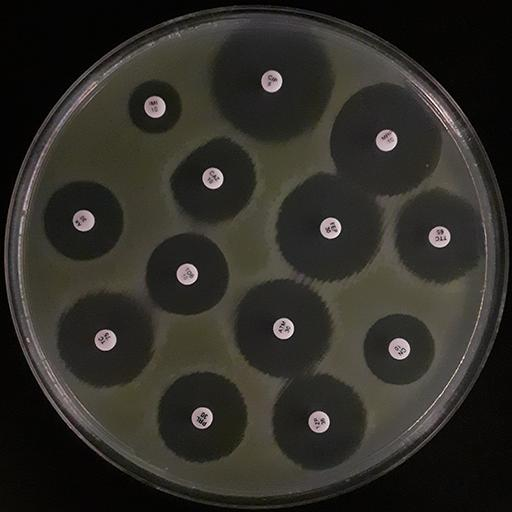disc: (71, 208, 96, 232), (428, 224, 452, 248), (387, 337, 412, 360), (144, 95, 167, 119), (375, 128, 398, 152), (176, 262, 199, 286), (93, 328, 117, 351), (190, 406, 214, 429), (307, 410, 331, 433), (319, 216, 342, 239), (261, 69, 283, 93), (202, 166, 224, 189), (272, 316, 294, 339)
